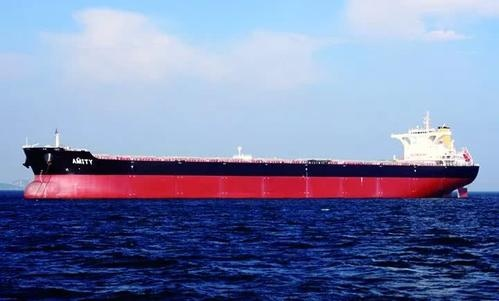Cargoship: (20, 109, 481, 202)
